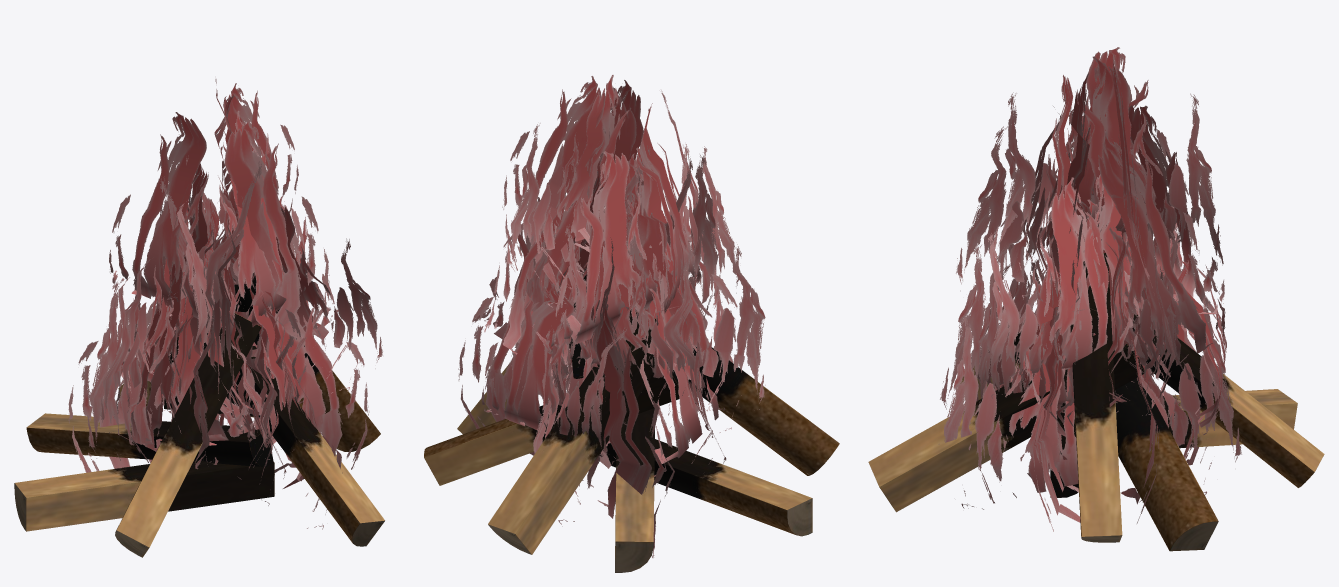
The model's file is Campfire.fbx.
3 renders of one model, left to right at view 1: azimuth 30°, elevation 25°; view 2: azimuth 150°, elevation 25°; view 3: azimuth 270°, elevation 25°, orthographic. The views are drawn at different scales.
Parts seen in each view (by area): view 1: Flames, Firewood, Firewood.004, Firewood.003, Firewood.001, Firewood.006; view 2: Flames, Firewood.005, Firewood, Firewood.004, Firewood.002, Firewood.001, Firewood.006; view 3: Flames, Firewood.002, Firewood.006, Firewood.003, Firewood.005, Firewood.001.
Part boxes in pixels (x1=…): Flames: x1=68, y1=79, x2=382, y2=529; Firewood: x1=14, y1=459, x2=274, y2=531; Firewood.004: x1=115, y1=313, x2=261, y2=557; Firewood.003: x1=236, y1=346, x2=384, y2=546; Firewood.001: x1=26, y1=413, x2=273, y2=467; Firewood.006: x1=233, y1=272, x2=380, y2=451; Flames: x1=458, y1=75, x2=765, y2=557; Firewood.005: x1=488, y1=311, x2=656, y2=554; Firewood: x1=599, y1=439, x2=812, y2=536; Firewood.004: x1=630, y1=309, x2=839, y2=475; Firewood.002: x1=424, y1=362, x2=679, y2=485; Firewood.001: x1=615, y1=408, x2=654, y2=572; Firewood.006: x1=457, y1=269, x2=586, y2=434; Flames: x1=938, y1=47, x2=1241, y2=531; Firewood.002: x1=1115, y1=377, x2=1218, y2=551; Firewood.006: x1=1070, y1=253, x2=1122, y2=542; Firewood.003: x1=868, y1=343, x2=1144, y2=512; Firewood.005: x1=1132, y1=314, x2=1324, y2=487; Firewood.001: x1=1058, y1=389, x2=1297, y2=454.
Size of the model in its own units: 492 by 679 by 518.
